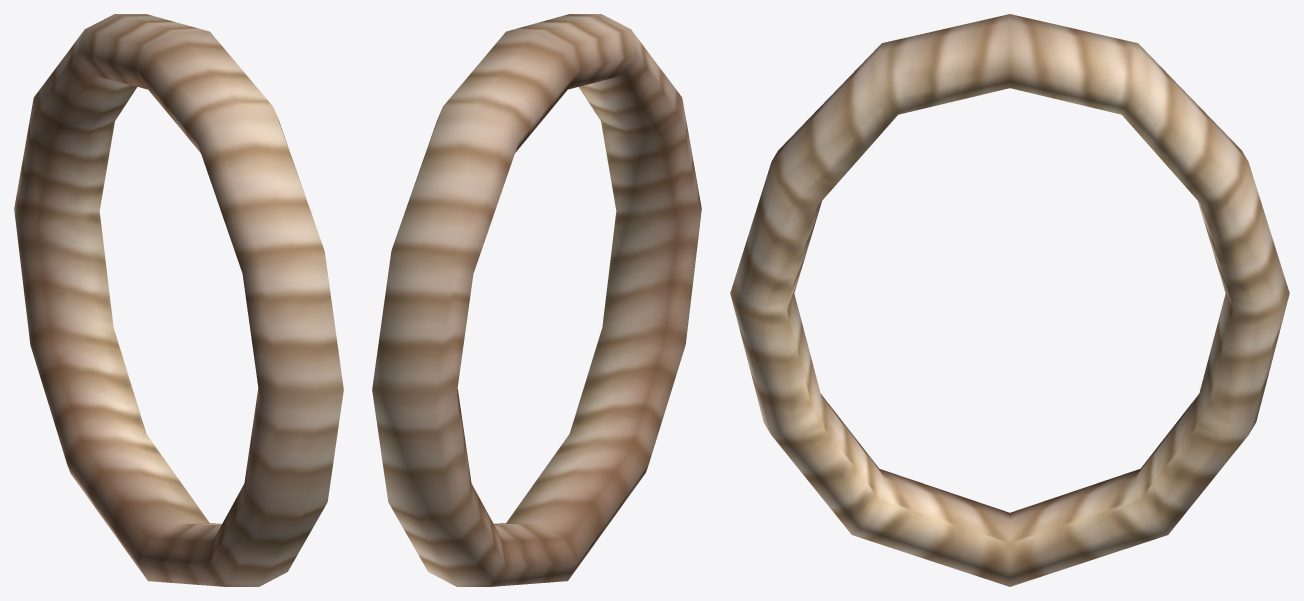
The model's file is CBS_Obj_Swing_Hook.FBX.
The picture shows the model from 3 angles, left to right: view 1: azimuth 30°, elevation 25°; view 2: azimuth 150°, elevation 25°; view 3: azimuth 270°, elevation 25°; orthographic projection.
Visible parts, largest first — view 1: CBS_Obj_Swing_Hook; view 2: CBS_Obj_Swing_Hook; view 3: CBS_Obj_Swing_Hook.
Boxes of the visible parts, <box> form: CBS_Obj_Swing_Hook: <box>14,14,343,586</box>; CBS_Obj_Swing_Hook: <box>372,14,701,586</box>; CBS_Obj_Swing_Hook: <box>730,14,1289,586</box>.
Size of the model in its own units: 3.3 by 20.97 by 19.1.
